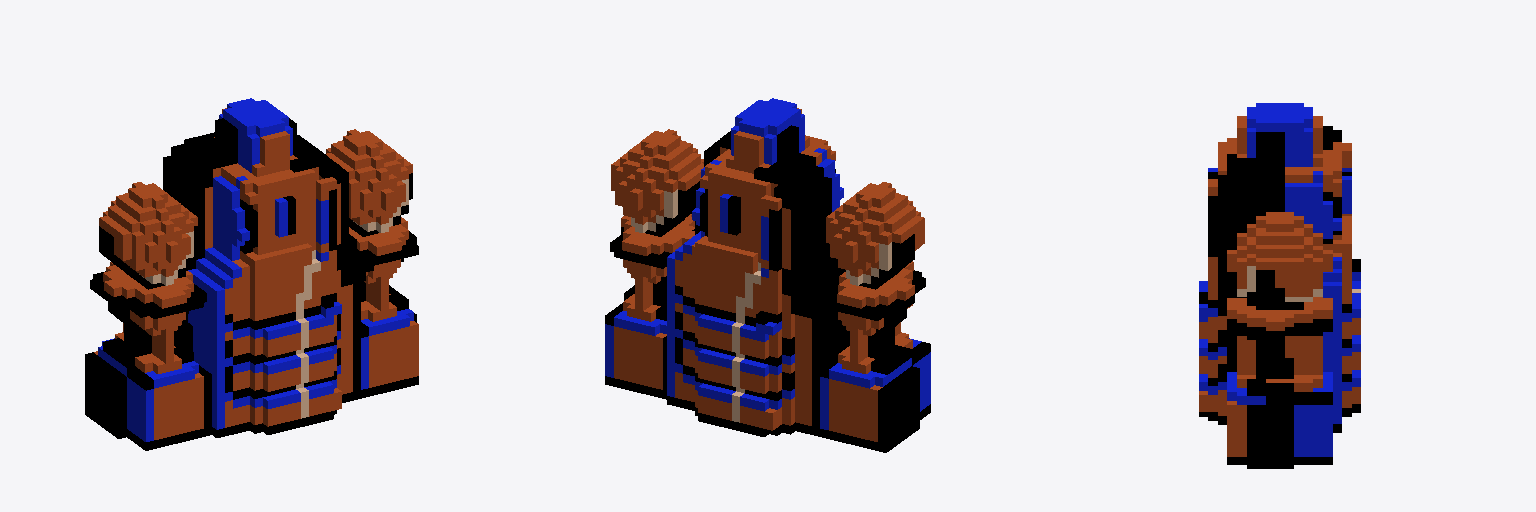
3 renders of one model, left to right at view 1: azimuth 30°, elevation 25°; view 2: azimuth 150°, elevation 25°; view 3: azimuth 270°, elevation 25°, orthographic.
Visible parts, largest first — view 1: object 1; view 2: object 1; view 3: object 1.
Part boxes in pixels (x1,y1,x2,y2): object 1: (85, 98, 418, 450); object 1: (605, 98, 930, 452); object 1: (1199, 103, 1360, 468).
Size of the model in its own units: 3.5 by 3.3 by 1.7.
1 materials, 1 textured.